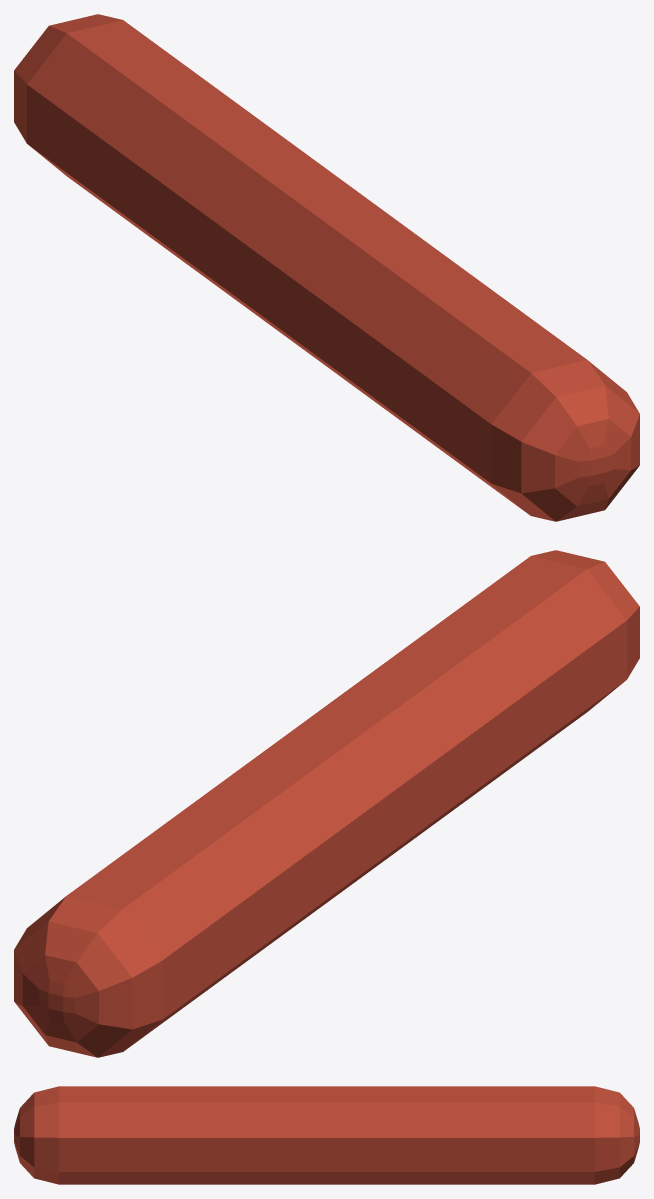
File: Sausage_Raw.obj
3 renders of one model, top to bottom at view 1: azimuth 30°, elevation 25°; view 2: azimuth 150°, elevation 25°; view 3: azimuth 270°, elevation 25°, orthographic. The views are drawn at different scales.
Visible parts, largest first — view 1: Sausage_Raw; view 2: Sausage_Raw; view 3: Sausage_Raw.
Boxes of the visible parts, bbox=[...] form: Sausage_Raw: bbox=[14, 14, 639, 521]; Sausage_Raw: bbox=[14, 550, 639, 1057]; Sausage_Raw: bbox=[14, 1086, 639, 1184].
Size of the model in its own units: 0.2396 by 0.2413 by 1.66.
